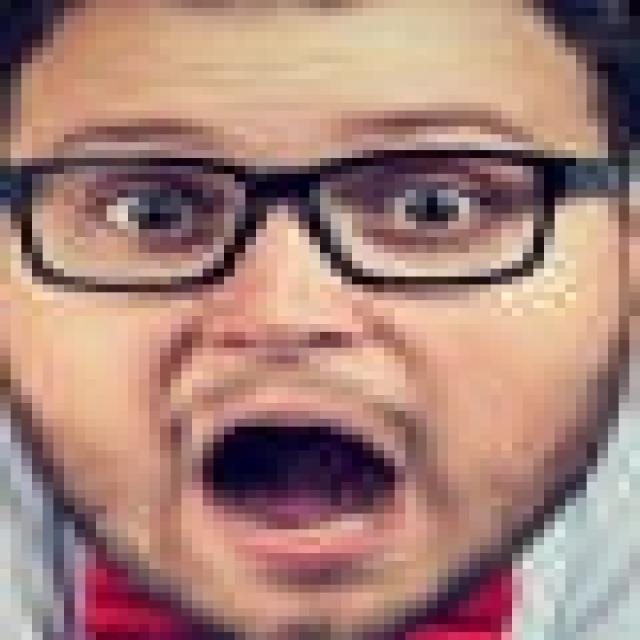Anxiety: (0, 0, 629, 632)
